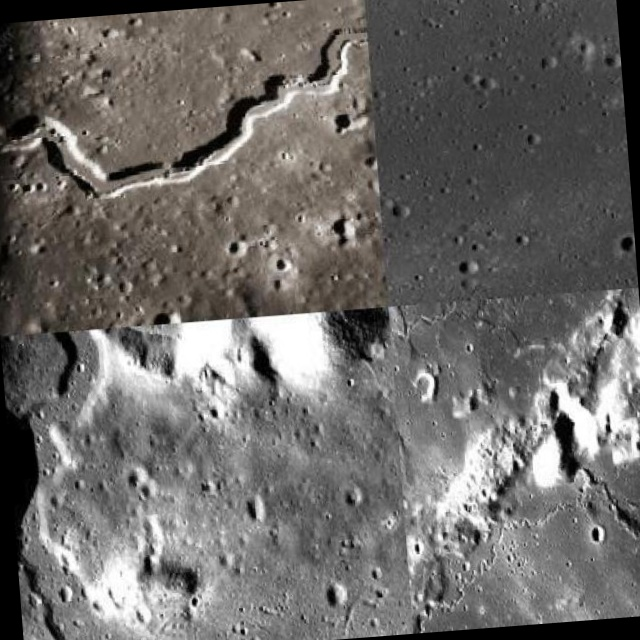crater: (0, 312, 225, 638), (0, 0, 388, 185), (390, 351, 638, 638)
